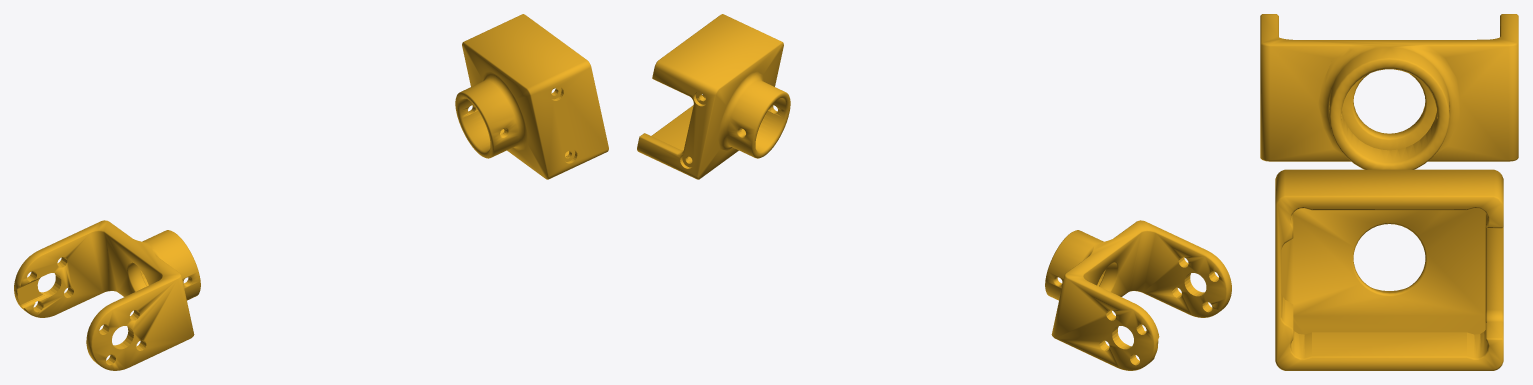
The model's file is right_arm_link3_arm.dae.
The picture shows the model from 3 angles, left to right: view 1: azimuth 30°, elevation 25°; view 2: azimuth 150°, elevation 25°; view 3: azimuth 270°, elevation 25°; orthographic projection. The views are drawn at different scales.
Visible parts, largest first — view 1: node; view 2: node; view 3: node.
Boxes of the visible parts, bbox=[...] form: node: bbox=[14, 14, 608, 370]; node: bbox=[637, 14, 1231, 370]; node: bbox=[1260, 14, 1518, 370].
Size of the model in its own units: 0.1666 by 0.043 by 0.0577.
